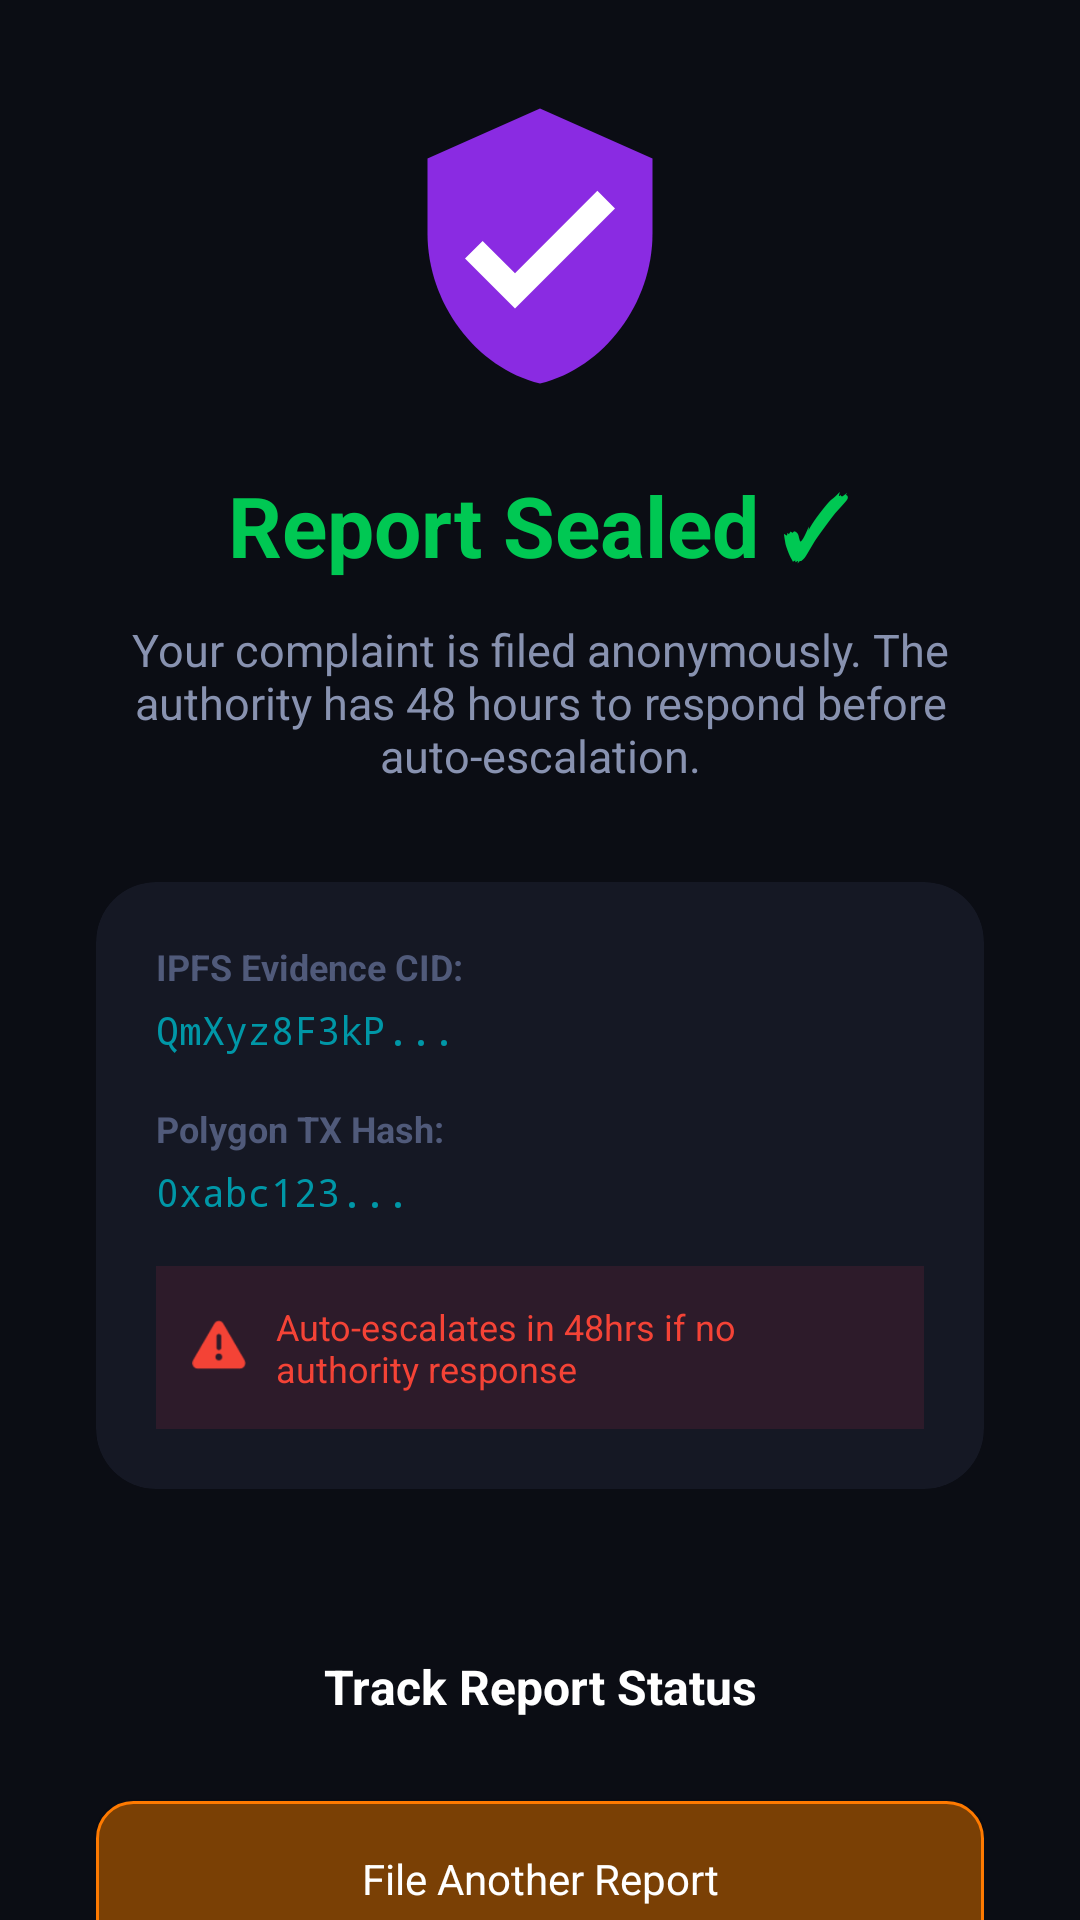

Icons on this 1080px×1920px Android screen, each with the point to tap as [x,y]:
Success: [540,246]
Warning: [219,1344]
